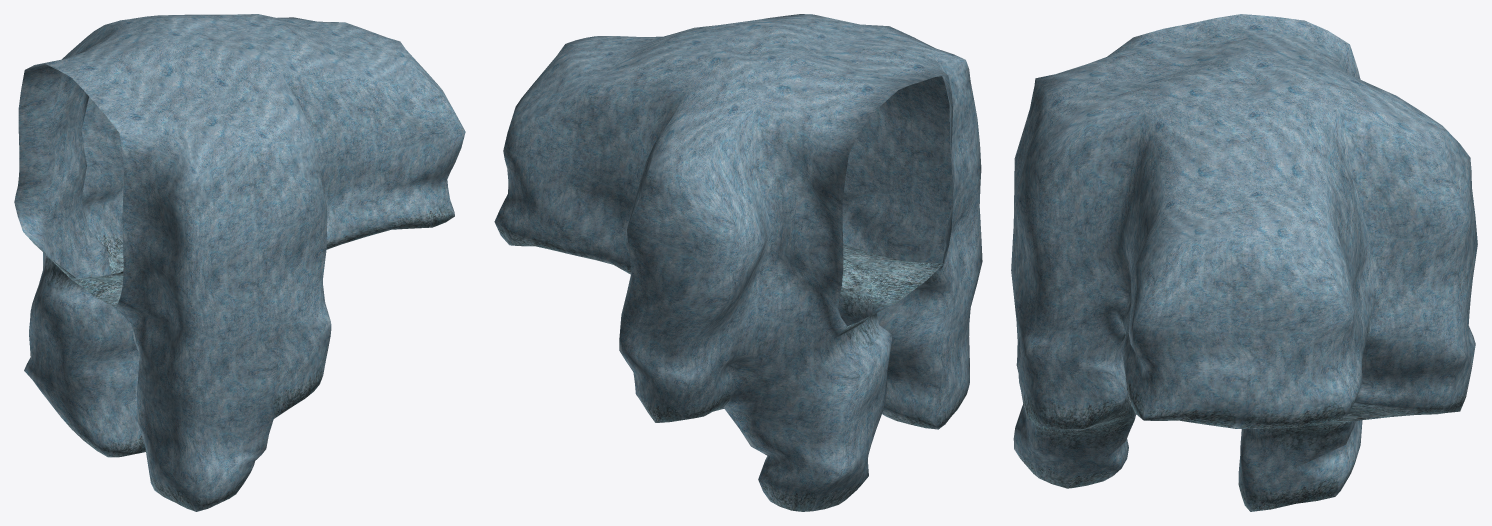
Rendered from thm_all_cave_s02_ice_r9_mesh_r9.fbx.
3 views of the same model, side by side, from view 1: azimuth 30°, elevation 25°; view 2: azimuth 150°, elevation 25°; view 3: azimuth 270°, elevation 25° (orthographic). The views are drawn at different scales.
Visible parts, largest first — view 1: mesh_node; view 2: mesh_node; view 3: mesh_node.
Boxes of the visible parts, <box> form: mesh_node: <box>14,14,465,511</box>; mesh_node: <box>494,14,982,511</box>; mesh_node: <box>1011,14,1477,511</box>.
Bounding box in the file's own units: 41.15 × 45.08 × 40.79.
